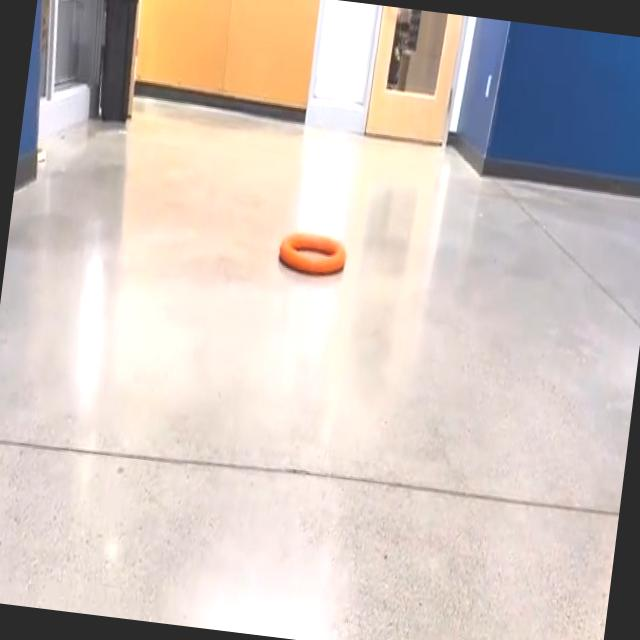note: (280, 232, 345, 274)
